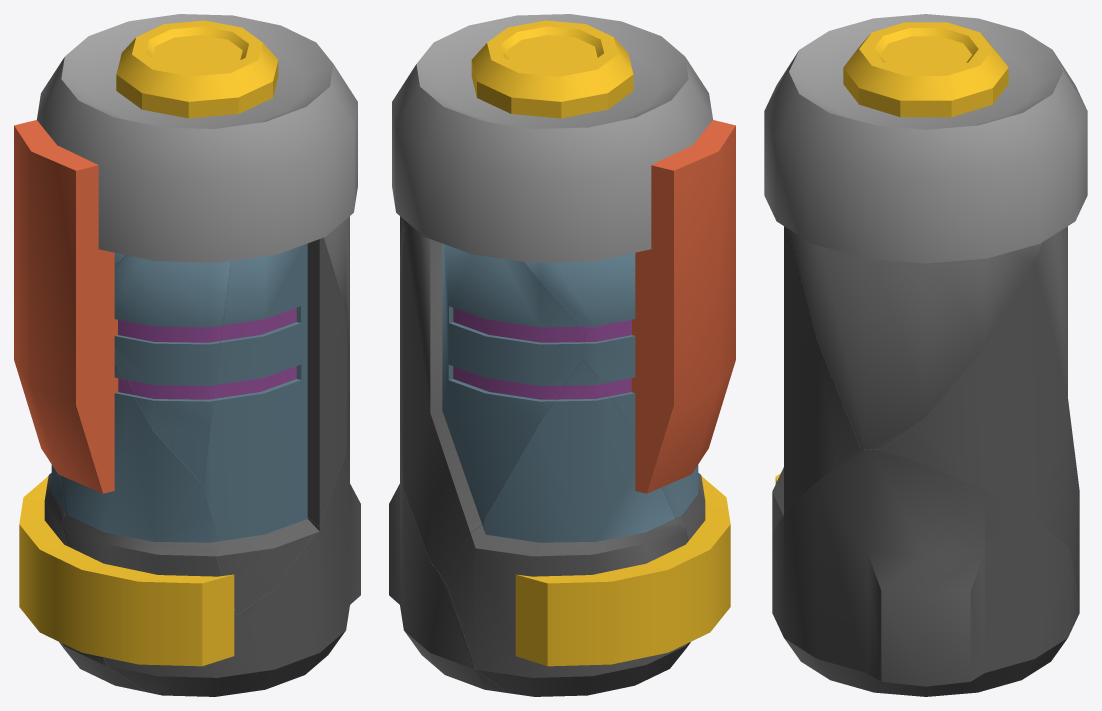
The model's file is Pin1_Fractured 1.fbx.
The picture shows the model from 3 angles, left to right: view 1: azimuth 30°, elevation 25°; view 2: azimuth 150°, elevation 25°; view 3: azimuth 270°, elevation 25°; orthographic projection.
Visible parts, largest first — view 1: polySurface4.001, polySurface4.002_cell.001, polySurface4.004, polySurface4, polySurface4.002_cell.004, polySurface4.002_cell.003, polySurface4.002_cell, polySurface4.003, polySurface4.002_cell.002, polySurface4.002_cell.005; view 2: polySurface4.001, polySurface4.002_cell.007, polySurface4.002_cell.002, polySurface4.004, polySurface4, polySurface4.003, polySurface4.002_cell, polySurface4.002_cell.004, polySurface4.002_cell.006; view 3: polySurface4.002_cell, polySurface4.001, polySurface4.002_cell.005, polySurface4.002_cell.007, polySurface4.003, polySurface4.002_cell.001, polySurface4.002_cell.002.
Boxes of the visible parts, left/top/right/bottom form: polySurface4.001: left=37, top=14, right=357, bottom=262; polySurface4.002_cell.001: left=203, top=238, right=349, bottom=614; polySurface4.004: left=14, top=120, right=118, bottom=493; polySurface4: left=19, top=476, right=234, bottom=666; polySurface4.002_cell.004: left=60, top=362, right=236, bottom=693; polySurface4.002_cell.003: left=114, top=255, right=230, bottom=484; polySurface4.002_cell: left=154, top=384, right=360, bottom=696; polySurface4.003: left=116, top=20, right=278, bottom=118; polySurface4.002_cell.002: left=44, top=465, right=145, bottom=691; polySurface4.002_cell.005: left=323, top=216, right=349, bottom=383; polySurface4.001: left=392, top=14, right=712, bottom=262; polySurface4.002_cell.007: left=400, top=224, right=584, bottom=583; polySurface4.002_cell.002: left=446, top=360, right=690, bottom=696; polySurface4.004: left=631, top=120, right=735, bottom=493; polySurface4: left=515, top=476, right=730, bottom=666; polySurface4.003: left=471, top=20, right=633, bottom=118; polySurface4.002_cell: left=389, top=427, right=507, bottom=692; polySurface4.002_cell.004: left=583, top=318, right=705, bottom=541; polySurface4.002_cell.006: left=525, top=252, right=635, bottom=327; polySurface4.002_cell: left=772, top=449, right=1079, bottom=696; polySurface4.001: left=764, top=14, right=1087, bottom=263; polySurface4.002_cell.005: left=788, top=229, right=1041, bottom=449; polySurface4.002_cell.007: left=882, top=226, right=1078, bottom=553; polySurface4.003: left=843, top=22, right=1008, bottom=117; polySurface4.002_cell.001: left=772, top=226, right=860, bottom=531; polySurface4.002_cell.002: left=1072, top=482, right=1079, bottom=609.
Size of the model in its own units: 483 by 861 by 427.
